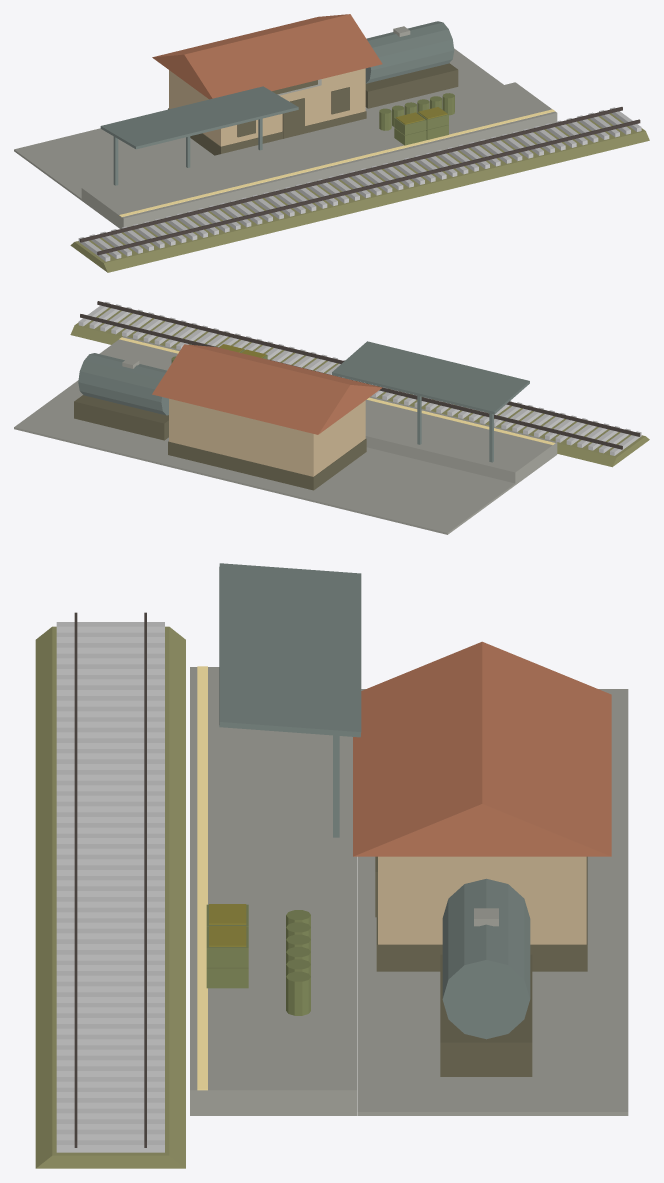
File: SM_EstacionH1_v4_Deposito_LOD0.fbx
3 renders of one model, top to bottom at view 1: azimuth 30°, elevation 25°; view 2: azimuth 150°, elevation 25°; view 3: azimuth 270°, elevation 25°, orthographic. The views are drawn at different scales.
Parts seen in each view (by area): view 1: SM_estacion_h1_v4_LOD0; view 2: SM_estacion_h1_v4_LOD0; view 3: SM_estacion_h1_v4_LOD0.
Boxes of the visible parts, left/top/right/bottom form: SM_estacion_h1_v4_LOD0: left=14, top=14, right=649, bottom=272; SM_estacion_h1_v4_LOD0: left=14, top=301, right=649, bottom=534; SM_estacion_h1_v4_LOD0: left=35, top=563, right=628, bottom=1168.
Size of the model in its own units: 30 by 4.8 by 14.2.
